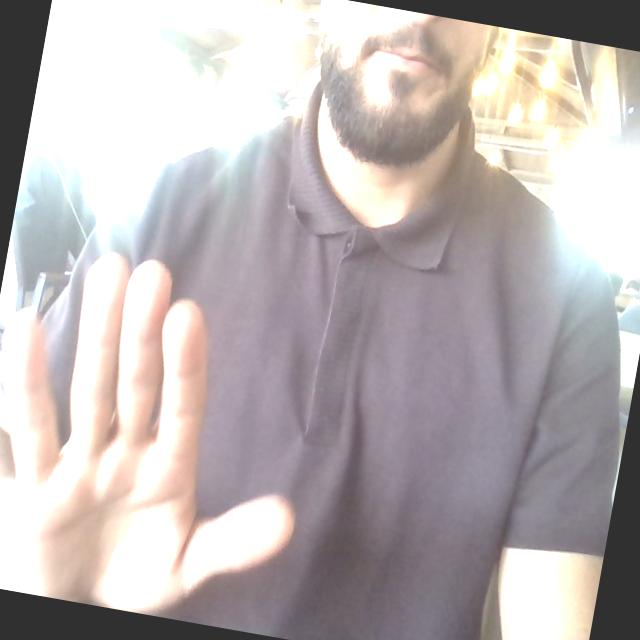Hand: (3, 255, 293, 610)
